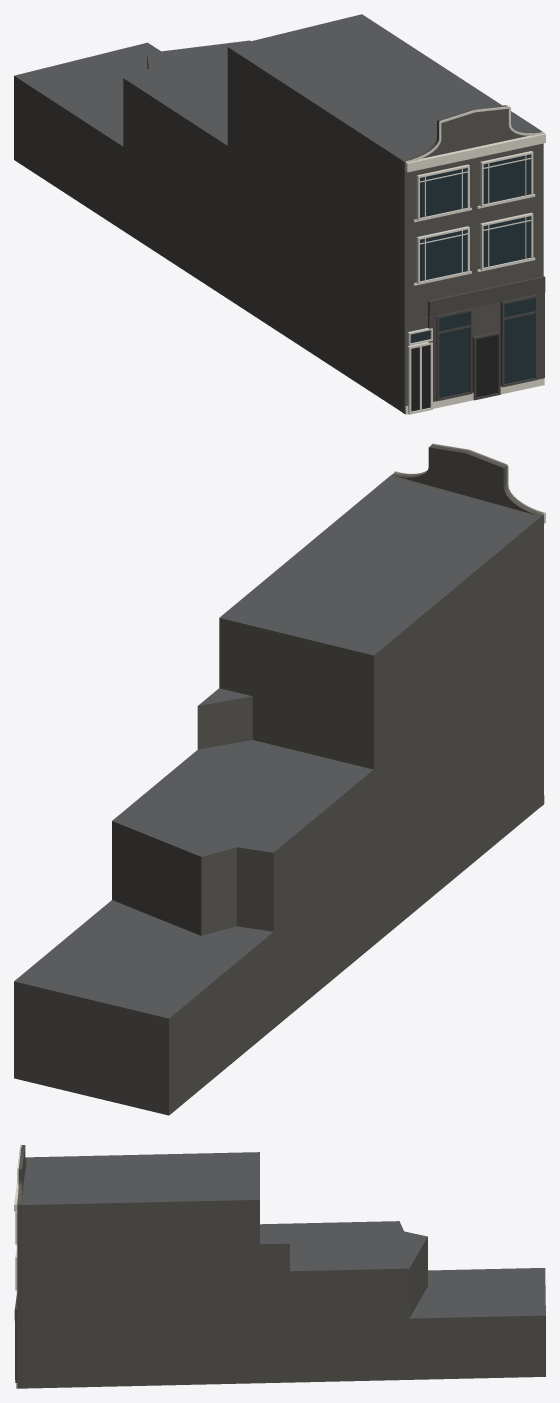
3 views of the same model, one above another, from view 1: azimuth 30°, elevation 25°; view 2: azimuth 150°, elevation 25°; view 3: azimuth 270°, elevation 25° (orthographic). The views are drawn at different scales.
Parts seen in each view (by area): view 1: spec-0363100012176280; view 2: spec-0363100012176280; view 3: spec-0363100012176280.
Part boxes in pixels (x1,y1,x2,y2): spec-0363100012176280: [14, 14, 545, 414]; spec-0363100012176280: [14, 443, 545, 1115]; spec-0363100012176280: [14, 1144, 545, 1388].
Bounding box in the file's own units: 7.01 × 11.6 × 26.51.
